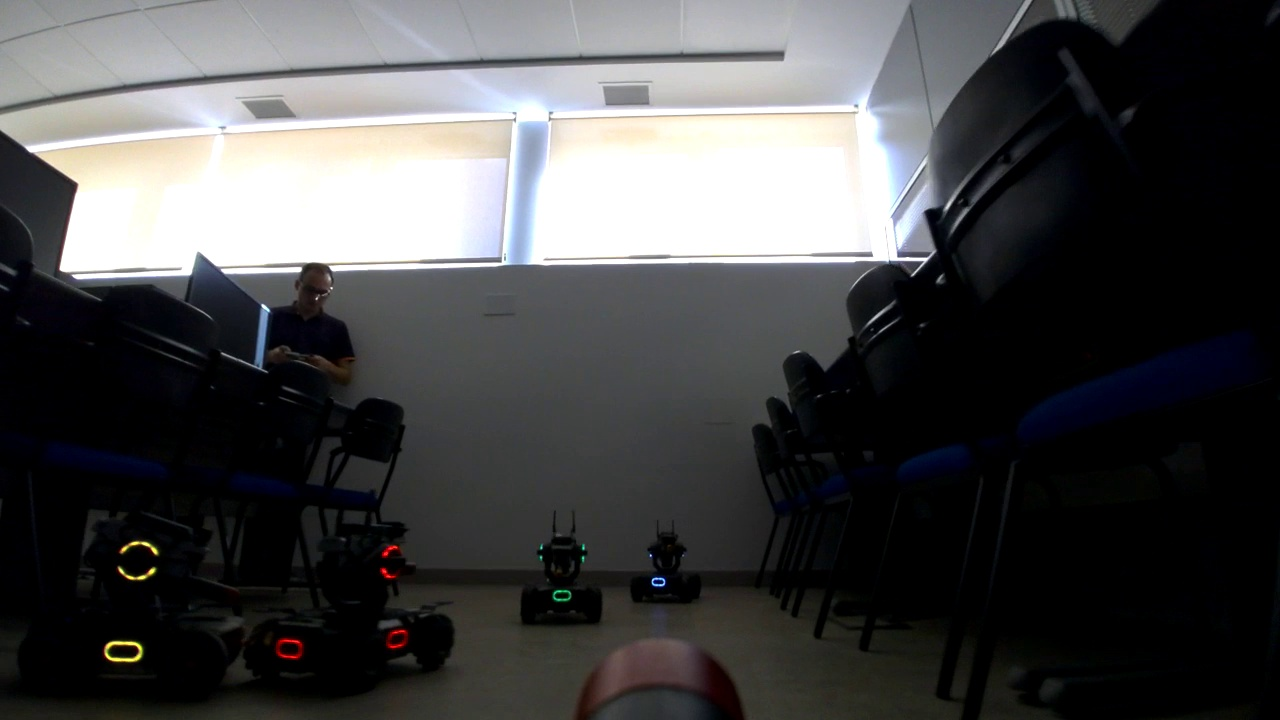robot: (18, 477, 248, 699), (244, 501, 454, 692), (521, 508, 602, 623), (631, 519, 701, 602)
